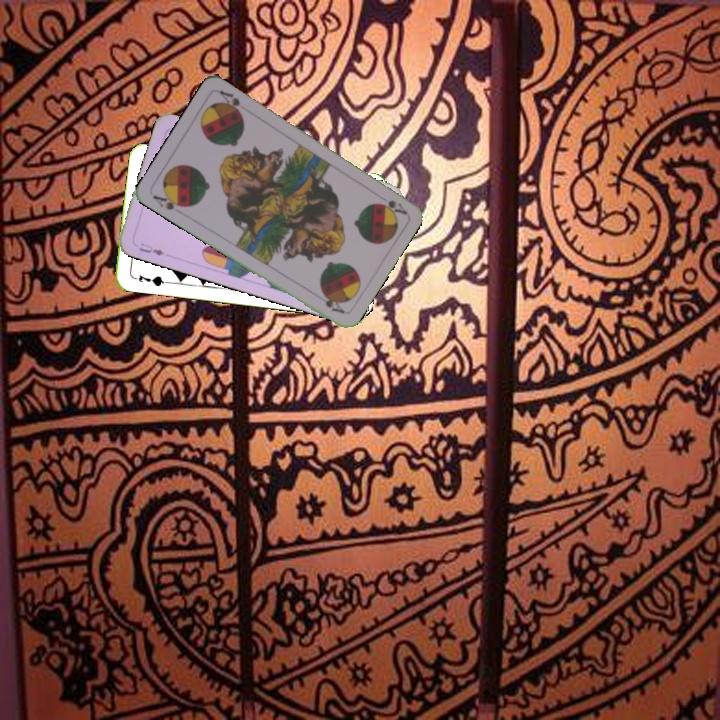EU: (135, 239, 167, 258)
G7: (135, 271, 169, 289)
SA: (148, 189, 189, 217), (378, 196, 409, 217)
